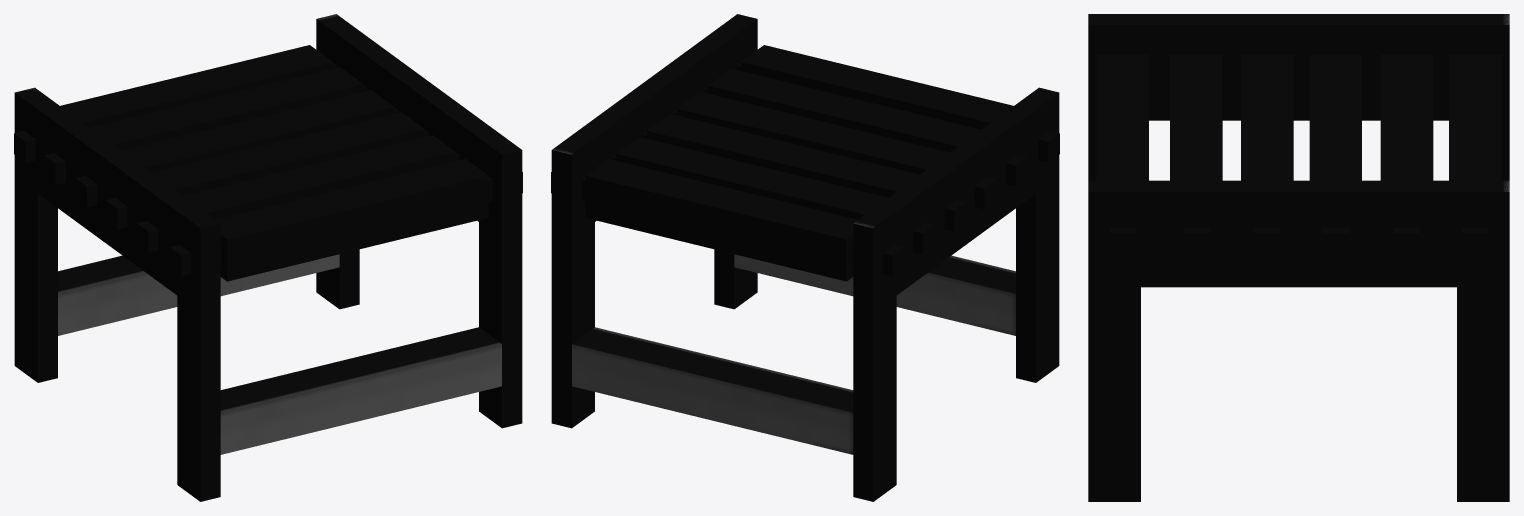
Rendered from conveyor_belt.obj.
The picture shows the model from 3 angles, left to right: view 1: azimuth 30°, elevation 25°; view 2: azimuth 150°, elevation 25°; view 3: azimuth 270°, elevation 25°; orthographic projection. The views are drawn at different scales.
Visible parts, largest first — view 1: Shape7, Shape9, Shape3, Shape6, Shape1, Shape2, Shape15, Shape8, Shape11, Shape14, Shape13, Shape12 (+10 smaller); view 2: Shape8, Shape12, Shape3, Shape6, Shape2, Shape1, Shape9, Shape7, Shape15, Shape13, Shape11, Shape14 (+12 smaller); view 3: Shape6, Shape3, Connection_right1, Shape4, Shape5, Shape11, Shape9, Shape12, Shape14, Shape15, Shape13, Connection_left1 (+12 smaller).
Part boxes in pixels (left/top/right/bottom): Shape7: left=220, top=327, right=501, bottom=454; Shape9: left=216, top=159, right=488, bottom=281; Shape3: left=14, top=87, right=220, bottom=312; Shape6: left=316, top=14, right=522, bottom=238; Shape1: left=177, top=296, right=220, bottom=501; Shape2: left=14, top=177, right=57, bottom=382; Shape15: left=183, top=135, right=455, bottom=219; Shape8: left=58, top=254, right=339, bottom=335; Shape11: left=90, top=67, right=363, bottom=150; Shape14: left=152, top=112, right=424, bottom=195; Shape13: left=122, top=90, right=394, bottom=172; Shape12: left=60, top=45, right=332, bottom=127; Shape8: left=572, top=327, right=853, bottom=454; Shape12: left=585, top=159, right=857, bottom=281; Shape3: left=853, top=88, right=1059, bottom=312; Shape6: left=551, top=14, right=757, bottom=238; Shape2: left=853, top=296, right=896, bottom=501; Shape1: left=1016, top=177, right=1059, bottom=382; Shape9: left=741, top=45, right=1013, bottom=129; Shape7: left=734, top=254, right=1015, bottom=335; Shape15: left=708, top=69, right=980, bottom=152; Shape13: left=647, top=114, right=919, bottom=197; Shape11: left=615, top=137, right=888, bottom=219; Shape14: left=677, top=91, right=949, bottom=174; Shape6: left=1088, top=180, right=1509, bottom=287; Shape3: left=1088, top=14, right=1509, bottom=120; Connection_right1: left=1114, top=215, right=1483, bottom=287; Shape4: left=1088, top=287, right=1140, bottom=501; Shape5: left=1457, top=287, right=1509, bottom=501; Shape11: left=1380, top=54, right=1433, bottom=180; Shape9: left=1096, top=54, right=1148, bottom=180; Shape12: left=1449, top=54, right=1501, bottom=180; Shape14: left=1241, top=54, right=1293, bottom=180; Shape15: left=1170, top=54, right=1222, bottom=180; Shape13: left=1309, top=54, right=1361, bottom=180; Connection_left1: left=1114, top=49, right=1483, bottom=120.
Bounding box in the file's own units: 1.06 × 0.8125 × 1.
